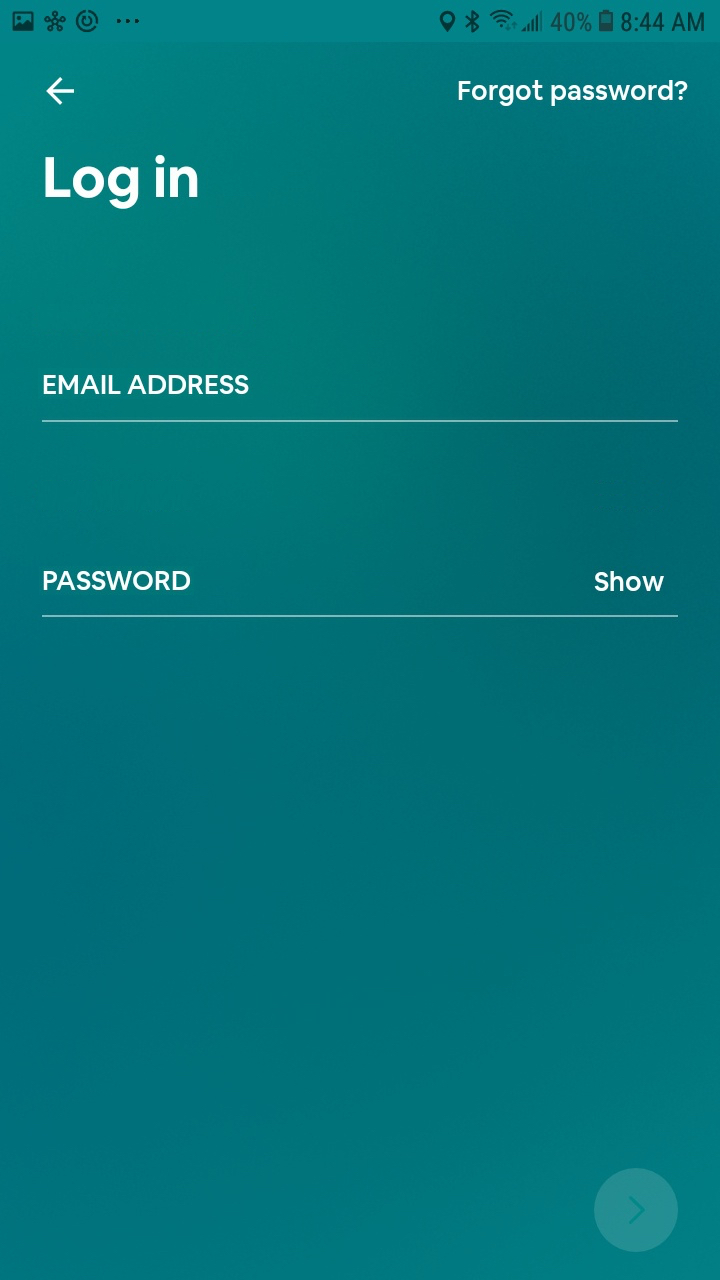EditText: (42, 375, 679, 424), (43, 570, 679, 618)
Icon: (593, 1167, 679, 1253), (46, 77, 76, 107)
Text: (44, 152, 198, 209), (458, 80, 689, 108), (43, 375, 249, 395), (44, 570, 191, 592), (594, 570, 665, 593)
UpperTaskBar: (1, 1, 720, 43)
